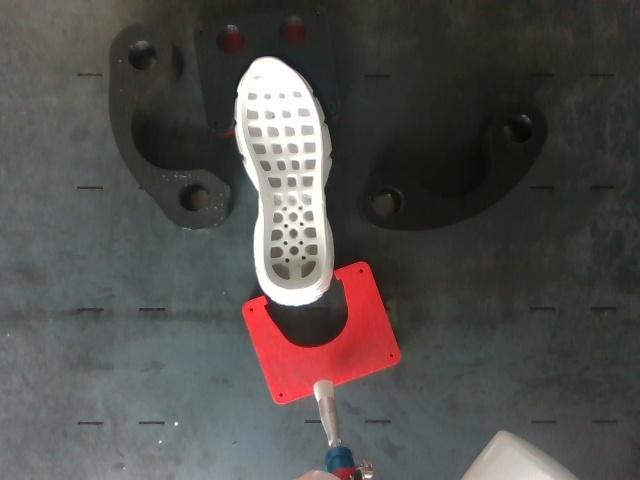shoes: (241, 58, 325, 290)
